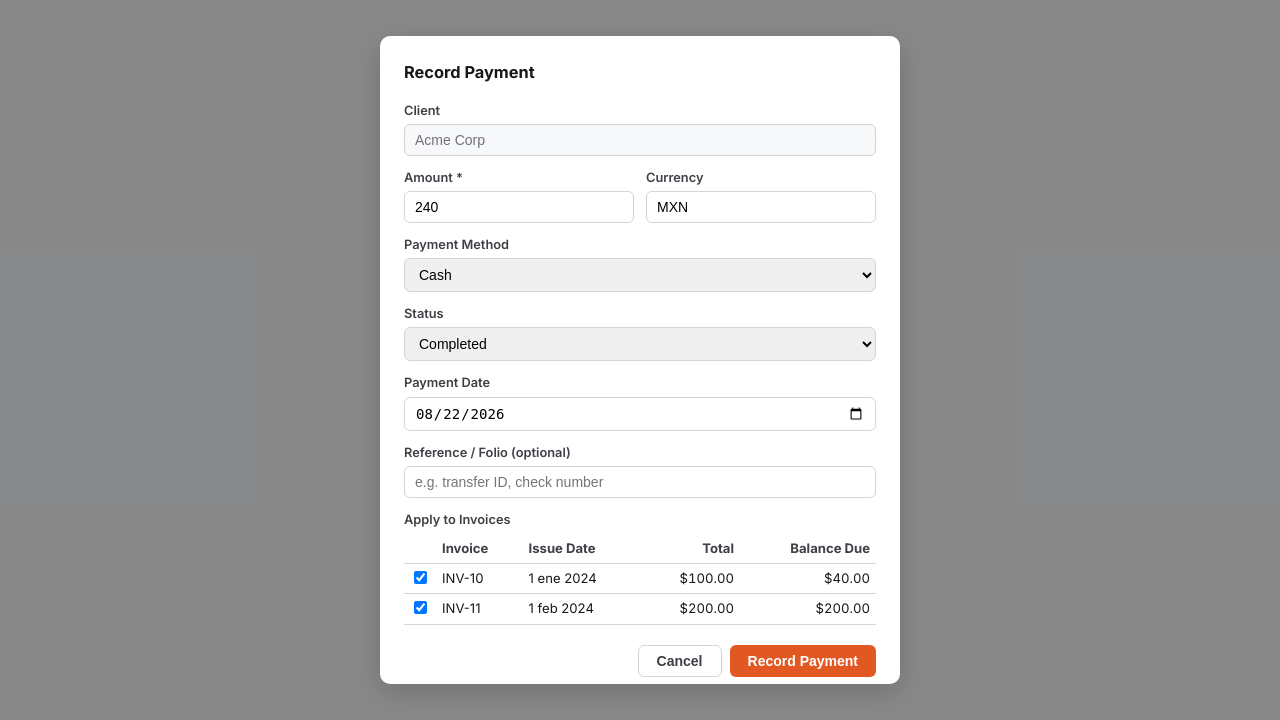
Test: RecordPaymentModal › unchecking an invoice recomputes the amount
Expected: the text "INV-11" is shown, left=436, top=594, right=522, bottom=624
Click the checkbox named "INV-11": (420, 608) left=414, top=601, right=427, bottom=614
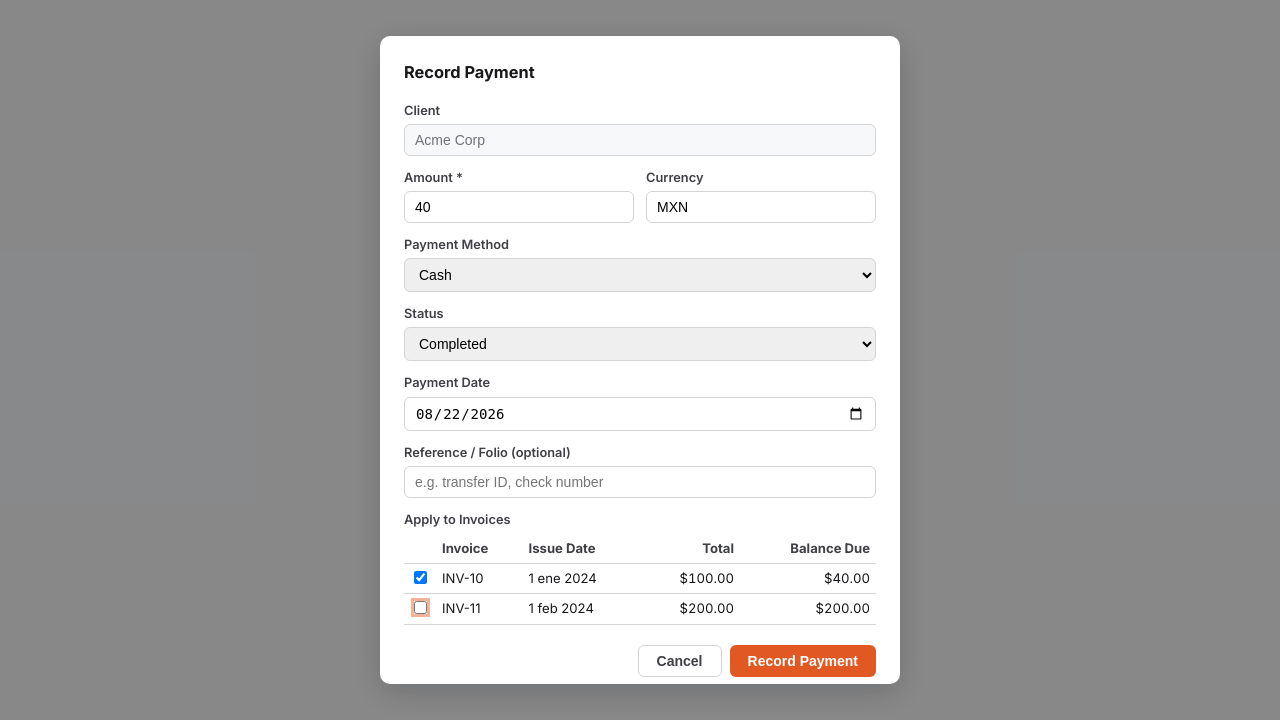
Expected: the checkbox named "INV-11" is not checked, left=414, top=601, right=427, bottom=614
Expected: the number field holds "40", left=404, top=191, right=634, bottom=223
